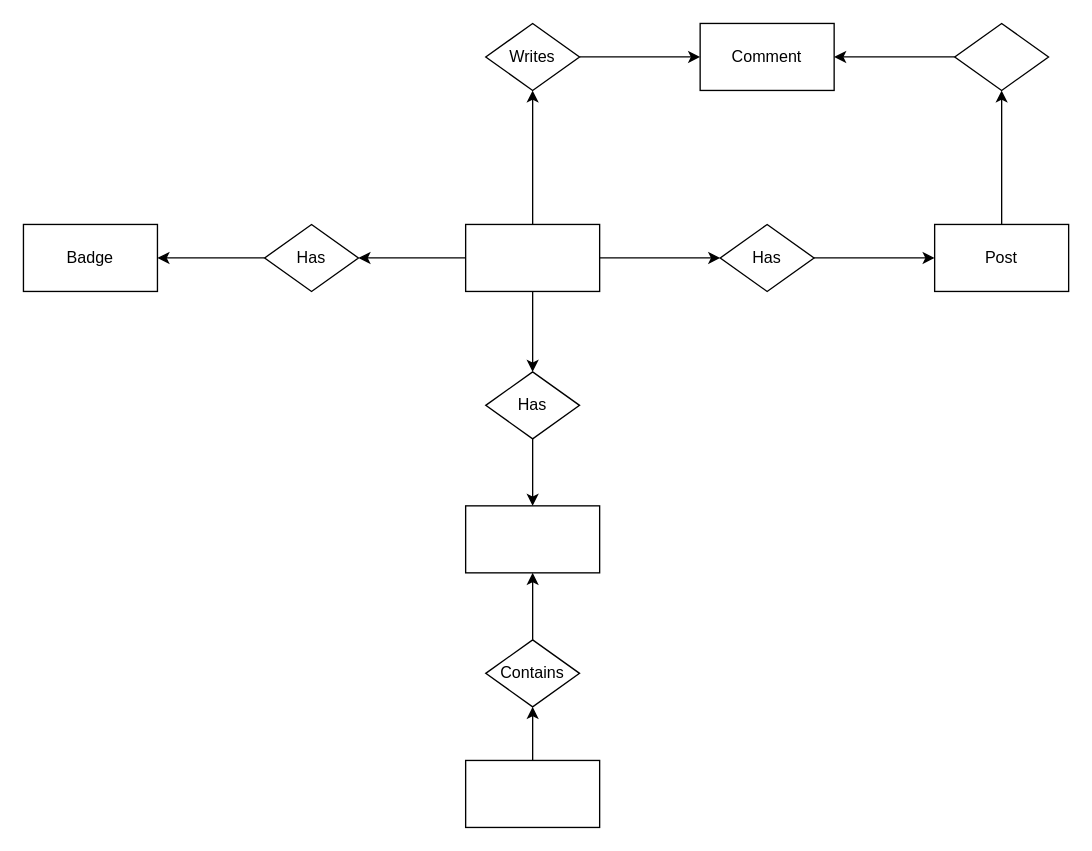
Image size: 1092x851. Some labels were removed from this diagram. Here are the shapes that lost their labels. From the top down, the box of each, then its label:
(953, 22, 1049, 90): Have
(464, 223, 600, 291): User
(464, 505, 600, 573): Activity
(464, 759, 600, 827): Category
